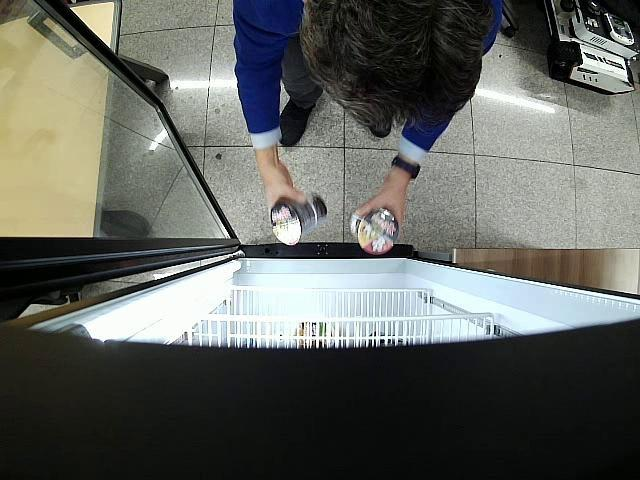08_buldak_S: (271, 192, 327, 246), (348, 206, 398, 255)
